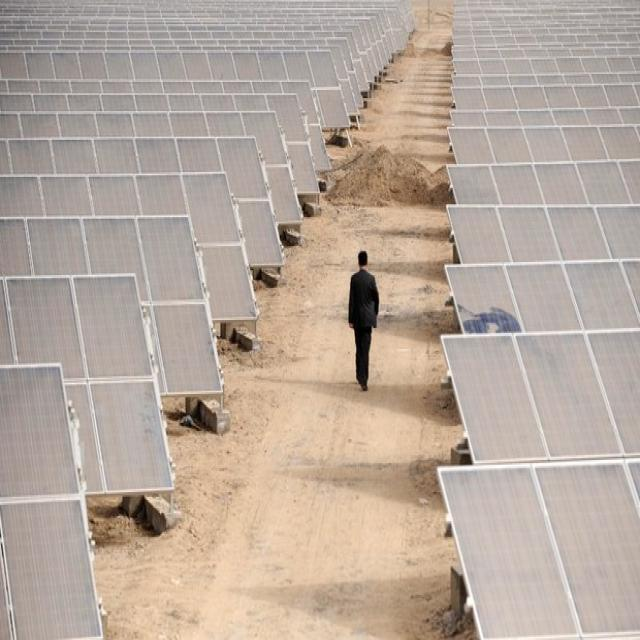Anomaly Solar Panel: (0, 0, 419, 639), (431, 2, 638, 640)
Surface Contaminant: (438, 0, 639, 639), (1, 214, 222, 392), (0, 269, 174, 493), (438, 454, 639, 639), (0, 364, 103, 639), (441, 328, 639, 457), (448, 258, 639, 335)
